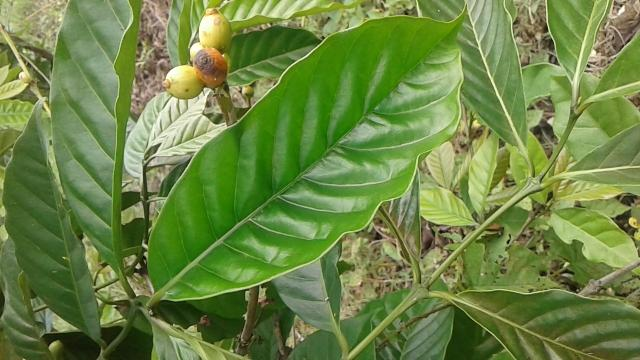healthy: (149, 22, 460, 302)
